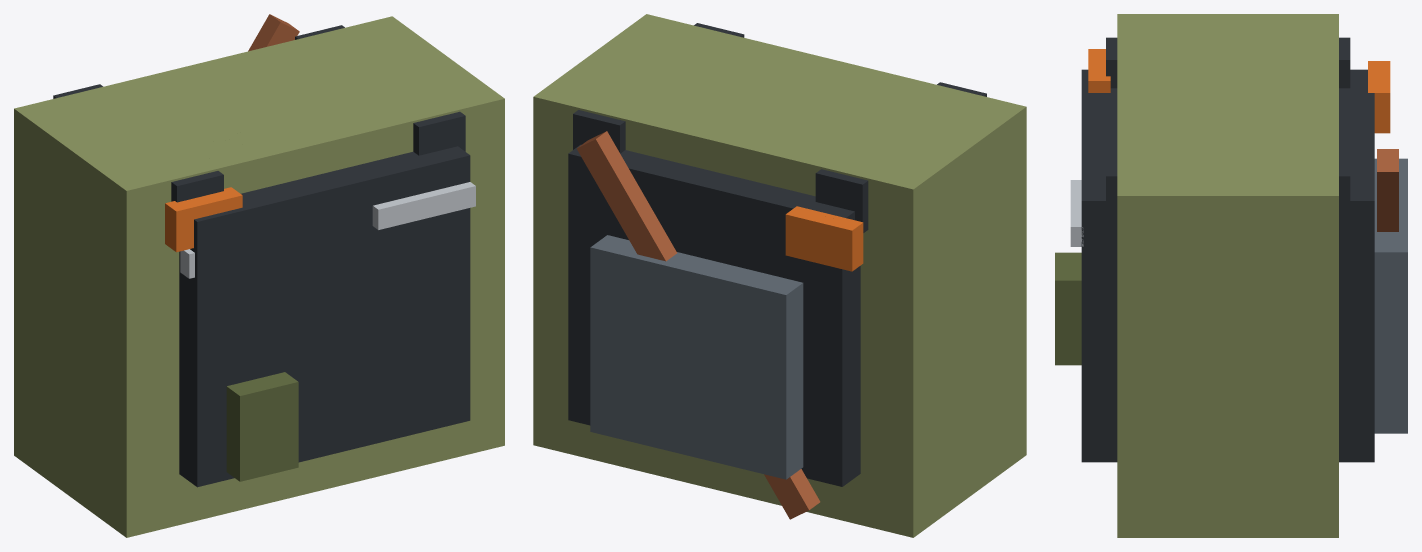
Rendered from pc_engineer_upper_torso.fbx.
3 renders of one model, left to right at view 1: azimuth 30°, elevation 25°; view 2: azimuth 150°, elevation 25°; view 3: azimuth 270°, elevation 25°, orthographic.
Visible parts, largest first — view 1: pc_engineer_upper_torso; view 2: pc_engineer_upper_torso; view 3: pc_engineer_upper_torso.
Boxes of the visible parts, x1,y1,x2,y2 form: pc_engineer_upper_torso: [14, 14, 504, 537]; pc_engineer_upper_torso: [533, 14, 1026, 537]; pc_engineer_upper_torso: [1055, 14, 1407, 537].
Size of the model in its own units: 194 by 171 by 159.
